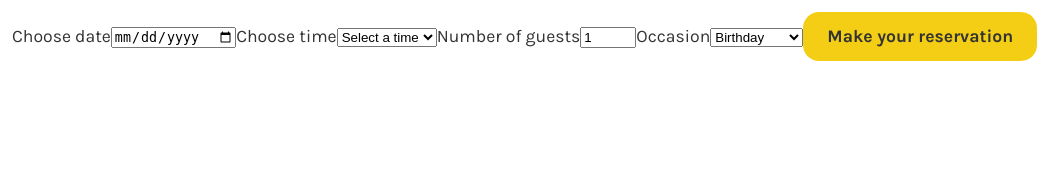
BookingForm validation › shows errors and does not submit when the form is empty
The image size is (1054, 176).
Click the button "Make your reservation" at (920, 36), box x1=803 y1=12 x2=1037 y2=61
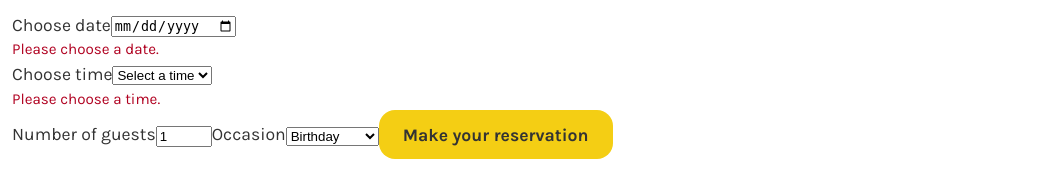
Result: the text "Please choose a date." is shown at x1=12 y1=40 x2=159 y2=58
Result: the text "Please choose a time." is shown at x1=12 y1=90 x2=160 y2=108
